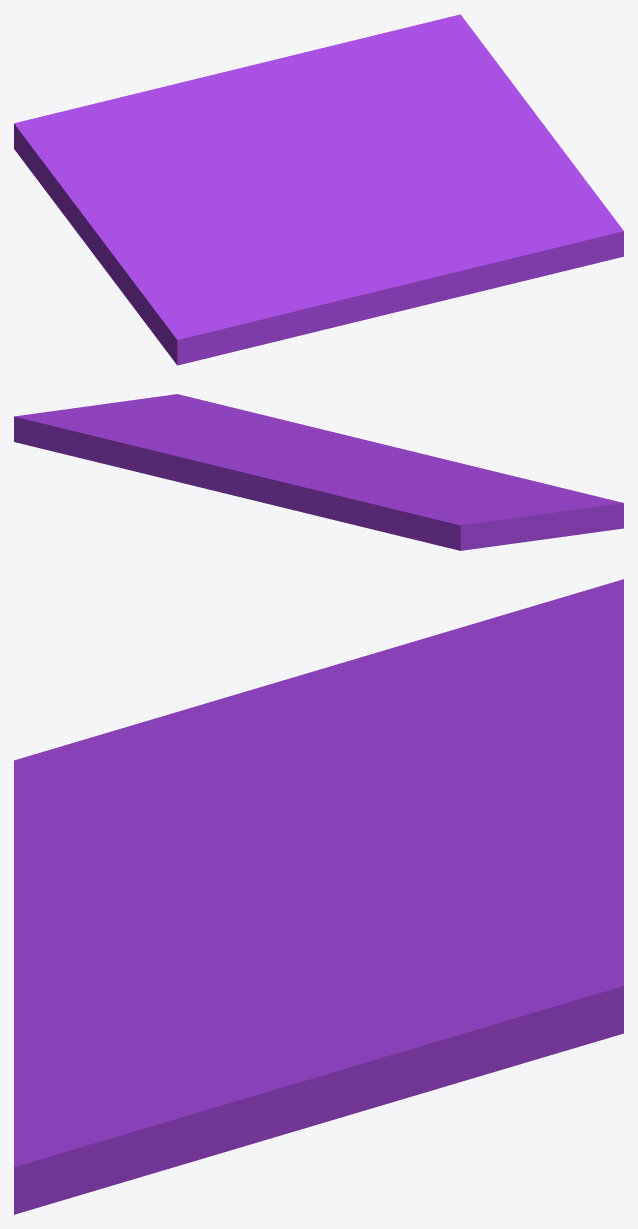
File: Window_165_chunks.fbx
The picture shows the model from 3 angles, top to bottom: view 1: azimuth 30°, elevation 25°; view 2: azimuth 150°, elevation 25°; view 3: azimuth 270°, elevation 25°; orthographic projection. The views are drawn at different scales.
Parts seen in each view (by area): view 1: Window_165_3, Window_165_1, Window_165_2, Window_165_0; view 2: Window_165_2, Window_165_3, Window_165_1, Window_165_0; view 3: Window_165_1, Window_165_2, Window_165_3, Window_165_0.
Boxes of the visible parts, x1=… form: Window_165_3: x1=14, y1=93, x2=300, y2=363; Window_165_1: x1=339, y1=78, x2=623, y2=304; Window_165_2: x1=139, y1=14, x2=507, y2=178; Window_165_0: x1=162, y1=178, x2=453, y2=365; Window_165_2: x1=14, y1=410, x2=335, y2=514; Window_165_3: x1=311, y1=464, x2=622, y2=550; Window_165_1: x1=62, y1=394, x2=346, y2=455; Window_165_0: x1=308, y1=435, x2=623, y2=528; Window_165_1: x1=14, y1=892, x2=499, y2=1214; Window_165_2: x1=303, y1=693, x2=623, y2=1070; Window_165_3: x1=72, y1=579, x2=623, y2=856; Window_165_0: x1=14, y1=743, x2=327, y2=1012.
Size of the model in its own units: 1838 by 482 by 1165.
